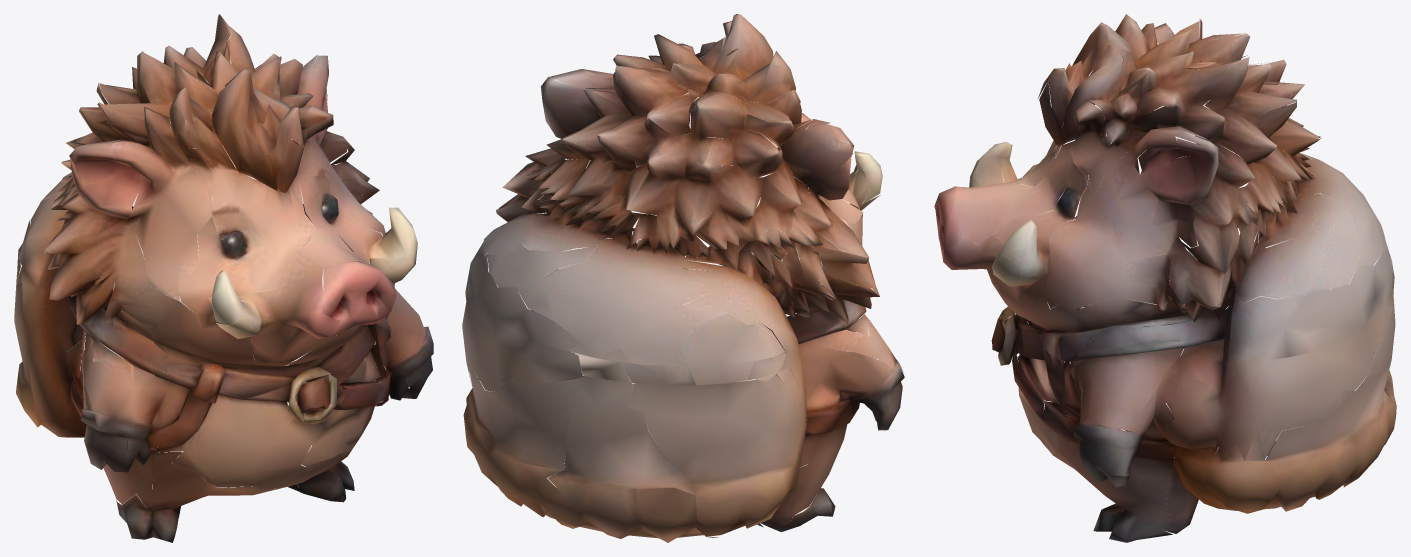
File: mob_boar.glb
3 views of the same model, side by side, from view 1: azimuth 30°, elevation 25°; view 2: azimuth 150°, elevation 25°; view 3: azimuth 270°, elevation 25° (orthographic). The views are drawn at different scales.
Parts seen in each view (by area): view 1: tripo_node_4912b022-414f-4ff7-b4e2-f26a8719d739; view 2: tripo_node_4912b022-414f-4ff7-b4e2-f26a8719d739; view 3: tripo_node_4912b022-414f-4ff7-b4e2-f26a8719d739.
Part boxes in pixels (x1=…): tripo_node_4912b022-414f-4ff7-b4e2-f26a8719d739: x1=14, y1=14, x2=433, y2=542; tripo_node_4912b022-414f-4ff7-b4e2-f26a8719d739: x1=462, y1=14, x2=904, y2=542; tripo_node_4912b022-414f-4ff7-b4e2-f26a8719d739: x1=934, y1=14, x2=1396, y2=542.
Size of the model in its own units: 0.8234 by 0.9998 by 0.9068.
1 material, 1 textured.
